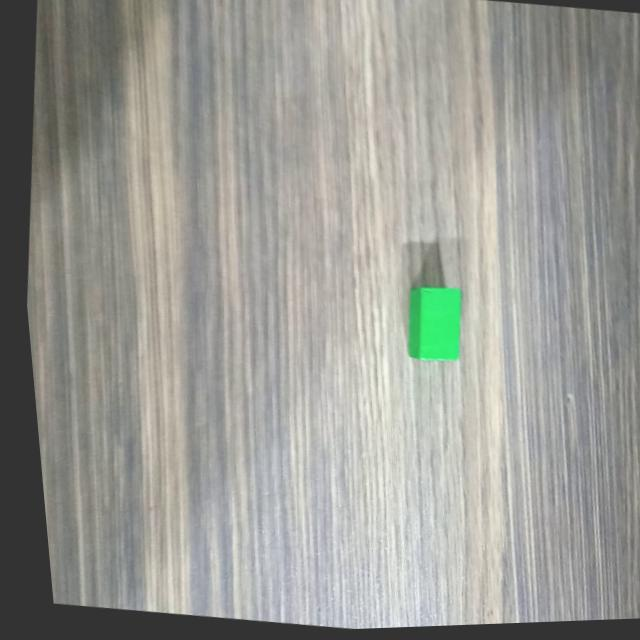cube: (391, 277, 467, 373)
